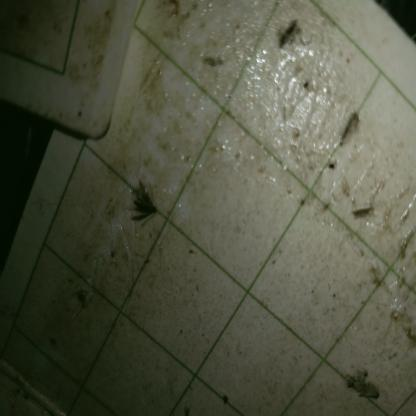prays_oleae: (110, 166, 161, 237), (342, 359, 371, 394), (356, 380, 383, 402)
